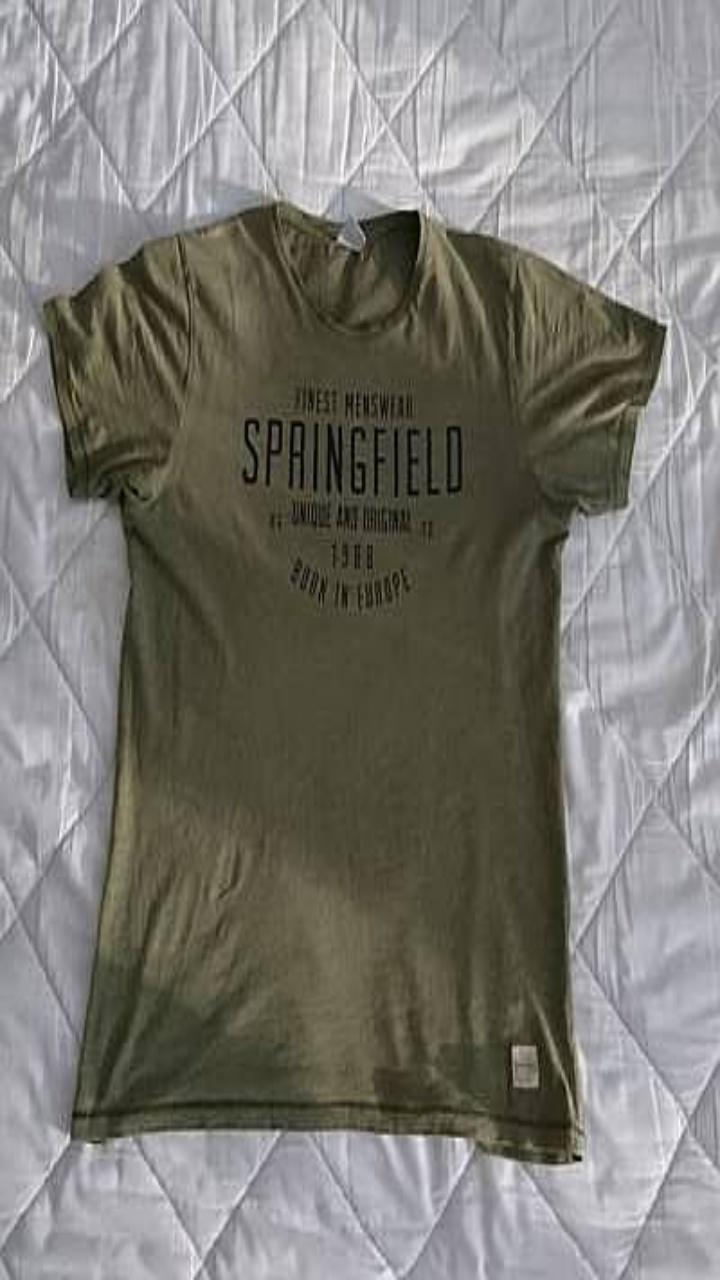T-Shirt: (42, 199, 665, 1162)
